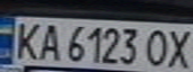1: (81, 24, 106, 63)
2: (100, 24, 124, 65)
3: (118, 25, 145, 66)
6: (63, 22, 87, 63)
A: (36, 20, 63, 62)
K: (9, 19, 42, 61)
O: (142, 26, 172, 69)
X: (163, 26, 193, 70)
